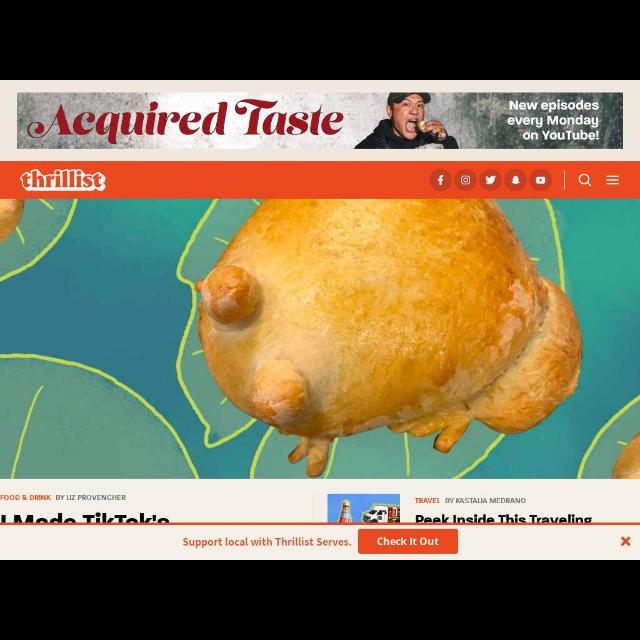button: (504, 168, 528, 194), (530, 168, 552, 192), (481, 168, 502, 192), (430, 168, 452, 190), (456, 168, 478, 190)
icon: (578, 172, 594, 190), (604, 170, 620, 186), (619, 533, 631, 549), (457, 174, 471, 186), (485, 173, 497, 184), (535, 174, 545, 186), (436, 172, 444, 184), (510, 175, 520, 183)
iframe: (17, 92, 623, 148)
image: (1, 199, 639, 477), (17, 167, 107, 195), (328, 492, 400, 522)
text: (183, 534, 353, 552), (415, 494, 527, 504), (1, 494, 127, 501), (376, 535, 440, 547)
textbutton: (360, 528, 460, 554)
toolbar: (1, 162, 638, 198)
